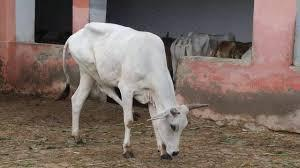cow: (62, 22, 210, 160)
